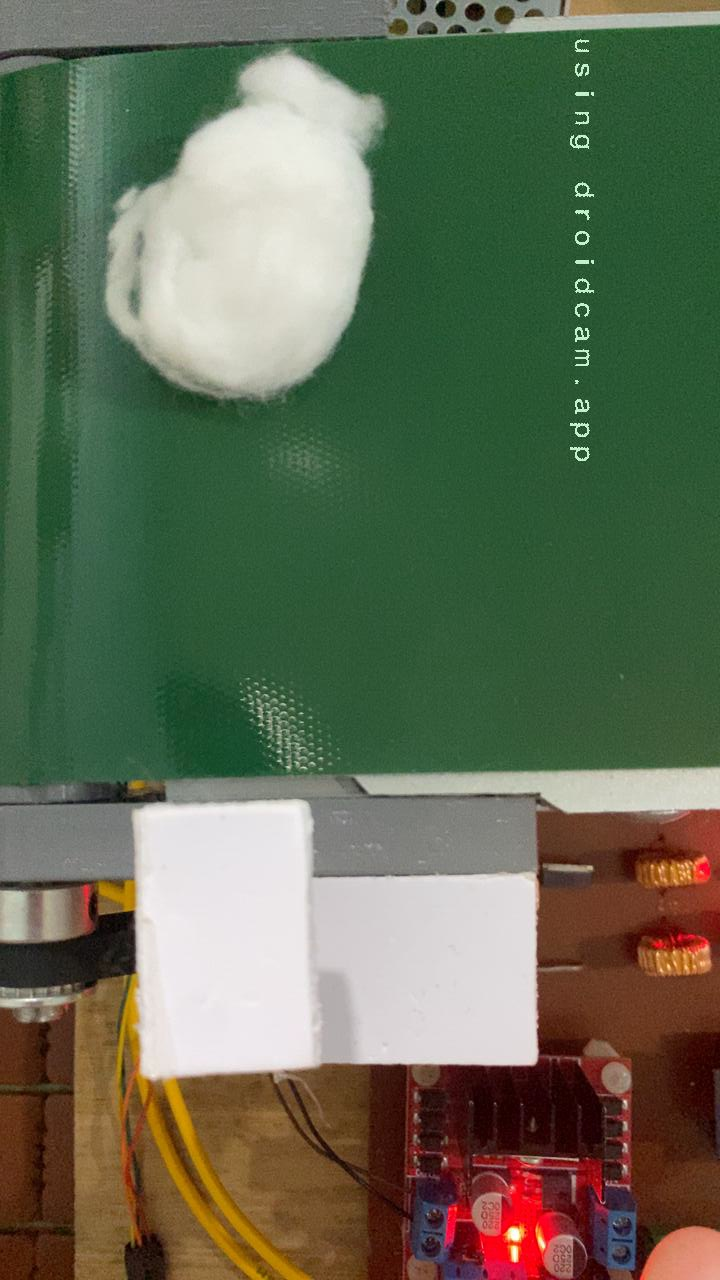cotton: (0, 33, 394, 408)
